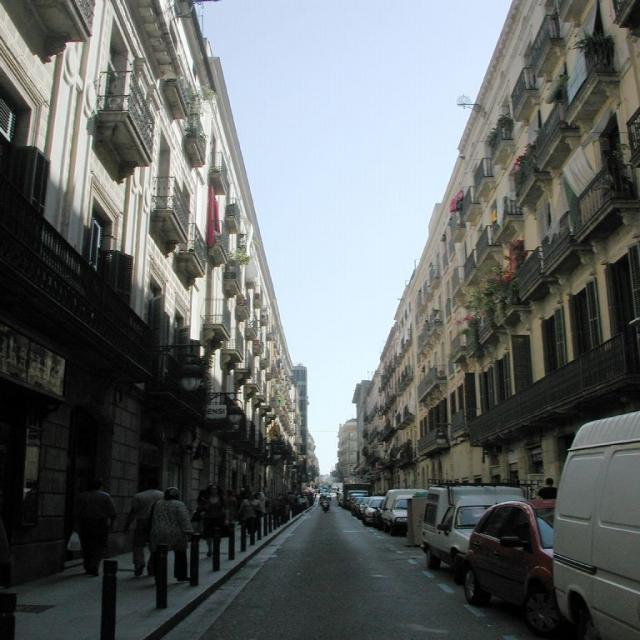other: (462, 502, 557, 636), (345, 495, 383, 525)
